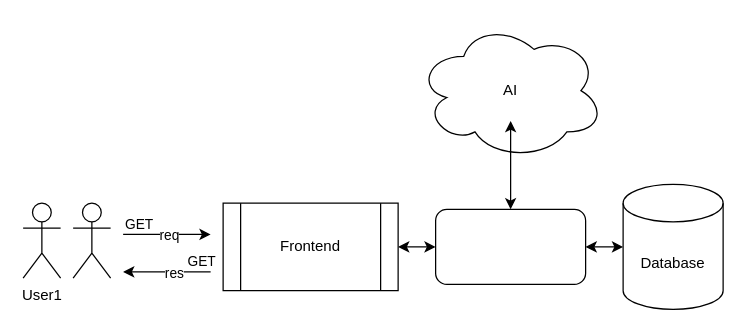
Some shapes in this 745 by 331 pixel diagram are drawn without their labels. Here are the shapes that lost their labels. From the top down, the centre of each, then its label:
At point 91,240: "User2".
At point 510,246: "Backend".
